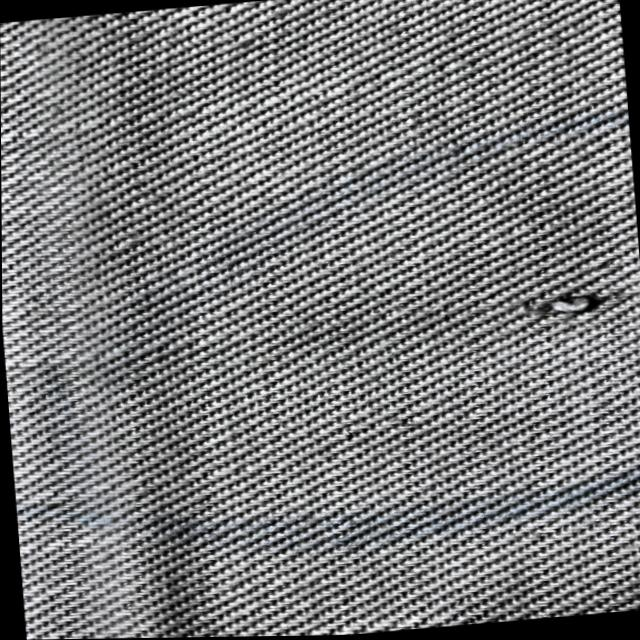Hole: (527, 290, 597, 323)
